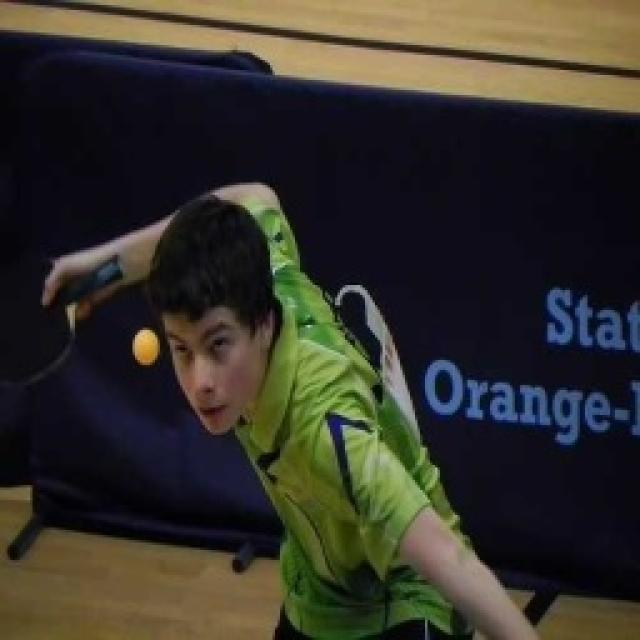oball: (134, 332, 160, 362)
